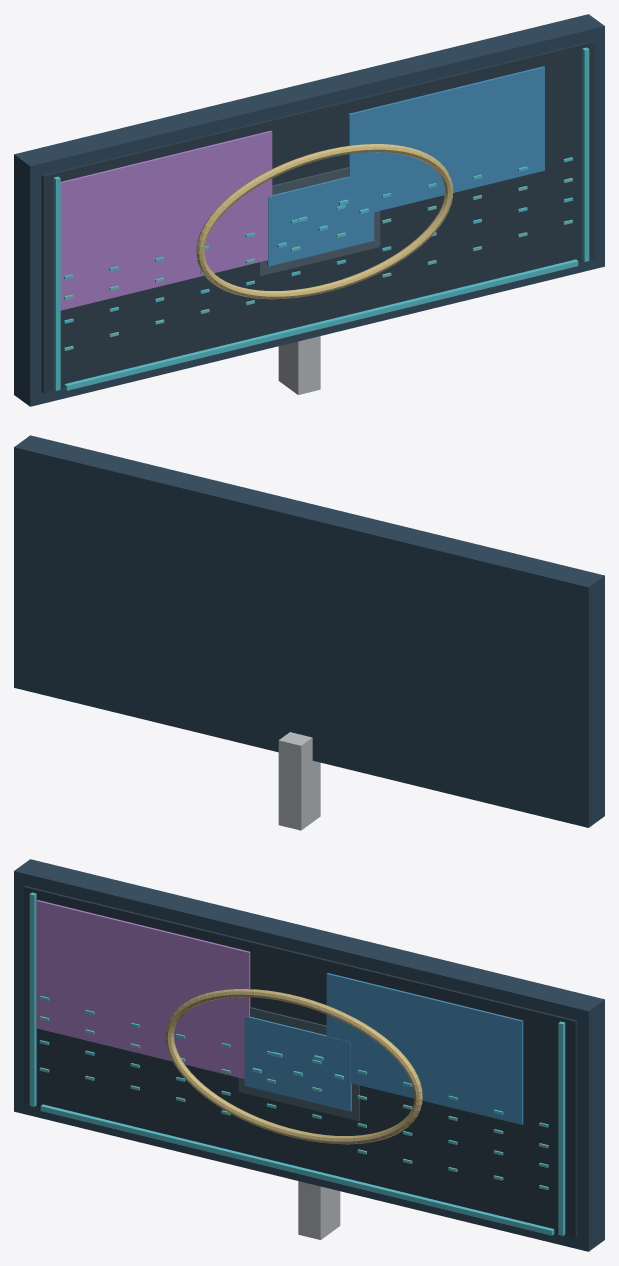
Rendered from 26_L83_PVMaximumPowerOperatingPointHologram.glb.
3 views of the same model, one above another, from view 1: azimuth 30°, elevation 25°; view 2: azimuth 150°, elevation 25°; view 3: azimuth 330°, elevation 25° (orthographic).
Visible parts, largest first — view 1: PVMaximumPowerOperatingPointHologram_Node_0001, PVMaximumPowerOperatingPointHologram_Node_0000, PVMaximumPowerOperatingPointHologram_Node_0002, PVMaximumPowerOperatingPointHologram_Node_0003, PVMaximumPowerOperatingPointHologram_Node_0196, PVMaximumPowerOperatingPointHologram_Node_0054, PVMaximumPowerOperatingPointHologram_Node_0055, PVMaximumPowerOperatingPointHologram_Node_0195, PVMaximumPowerOperatingPointHologram_Node_0053, PVMaximumPowerOperatingPointHologram_Node_0052; view 2: PVMaximumPowerOperatingPointHologram_Node_0000, PVMaximumPowerOperatingPointHologram_Node_0055; view 3: PVMaximumPowerOperatingPointHologram_Node_0001, PVMaximumPowerOperatingPointHologram_Node_0000, PVMaximumPowerOperatingPointHologram_Node_0002, PVMaximumPowerOperatingPointHologram_Node_0003, PVMaximumPowerOperatingPointHologram_Node_0196, PVMaximumPowerOperatingPointHologram_Node_0054, PVMaximumPowerOperatingPointHologram_Node_0055, PVMaximumPowerOperatingPointHologram_Node_0195, PVMaximumPowerOperatingPointHologram_Node_0052, PVMaximumPowerOperatingPointHologram_Node_0053.
Boxes of the visible parts, x1,y1,x2,y2 form: PVMaximumPowerOperatingPointHologram_Node_0001: (41,41,594,392); PVMaximumPowerOperatingPointHologram_Node_0000: (14,14,604,406); PVMaximumPowerOperatingPointHologram_Node_0002: (60,130,272,310); PVMaximumPowerOperatingPointHologram_Node_0003: (348,66,544,212); PVMaximumPowerOperatingPointHologram_Node_0196: (267,171,374,266); PVMaximumPowerOperatingPointHologram_Node_0054: (64,259,578,390); PVMaximumPowerOperatingPointHologram_Node_0055: (278,336,320,394); PVMaximumPowerOperatingPointHologram_Node_0195: (259,167,380,276); PVMaximumPowerOperatingPointHologram_Node_0053: (582,47,589,261); PVMaximumPowerOperatingPointHologram_Node_0052: (53,176,60,390); PVMaximumPowerOperatingPointHologram_Node_0000: (14,435,604,827); PVMaximumPowerOperatingPointHologram_Node_0055: (278,732,320,830); PVMaximumPowerOperatingPointHologram_Node_0001: (24,886,577,1237); PVMaximumPowerOperatingPointHologram_Node_0000: (14,859,604,1251); PVMaximumPowerOperatingPointHologram_Node_0002: (36,900,250,1078); PVMaximumPowerOperatingPointHologram_Node_0003: (326,973,523,1124); PVMaximumPowerOperatingPointHologram_Node_0196: (244,1016,351,1111); PVMaximumPowerOperatingPointHologram_Node_0054: (40,1104,554,1235); PVMaximumPowerOperatingPointHologram_Node_0055: (298,1181,340,1239); PVMaximumPowerOperatingPointHologram_Node_0195: (238,1007,359,1121); PVMaximumPowerOperatingPointHologram_Node_0052: (29,892,36,1106); PVMaximumPowerOperatingPointHologram_Node_0053: (558,1021,565,1235).
Bounding box in the file's own units: 3.05 × 1.53 × 0.34.
